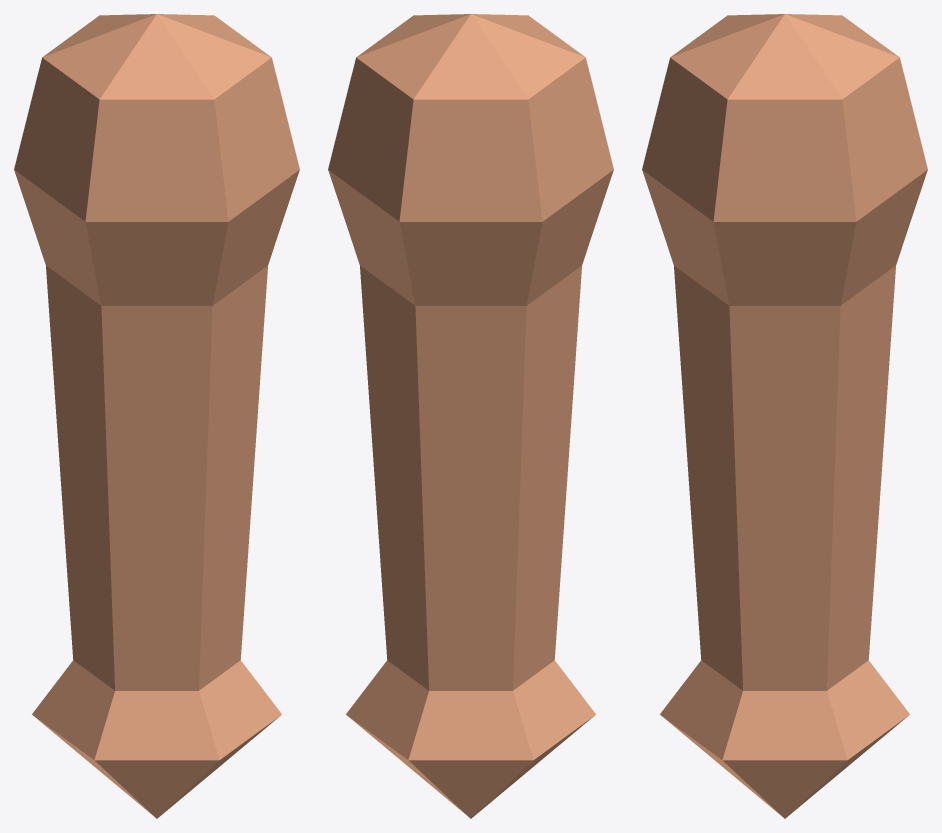
The model's file is torch.gltf.
The picture shows the model from 3 angles, left to right: view 1: azimuth 30°, elevation 25°; view 2: azimuth 150°, elevation 25°; view 3: azimuth 270°, elevation 25°; orthographic projection.
Visible parts, largest first — view 1: Circle; view 2: Circle; view 3: Circle.
Boxes of the visible parts, bbox=[...] form: Circle: bbox=[14, 14, 299, 818]; Circle: bbox=[328, 14, 613, 818]; Circle: bbox=[642, 14, 927, 818].
Size of the model in its own units: 0.5745 by 2.06 by 0.6634.
